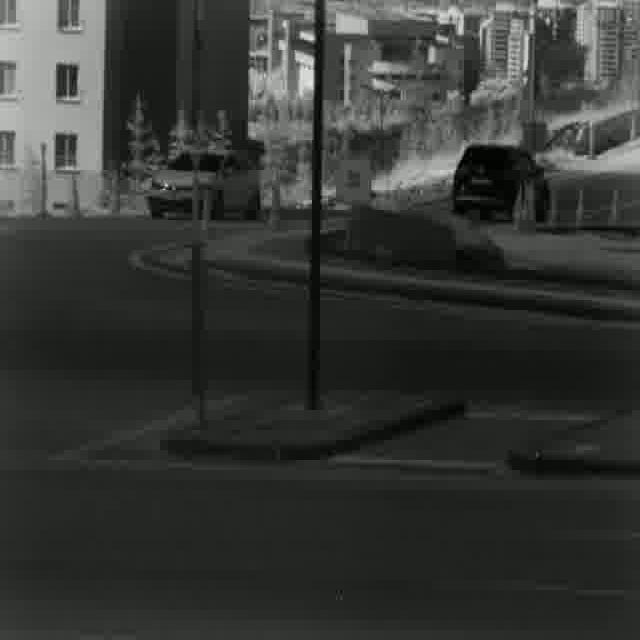Car: (144, 140, 261, 220), (449, 139, 552, 221)
